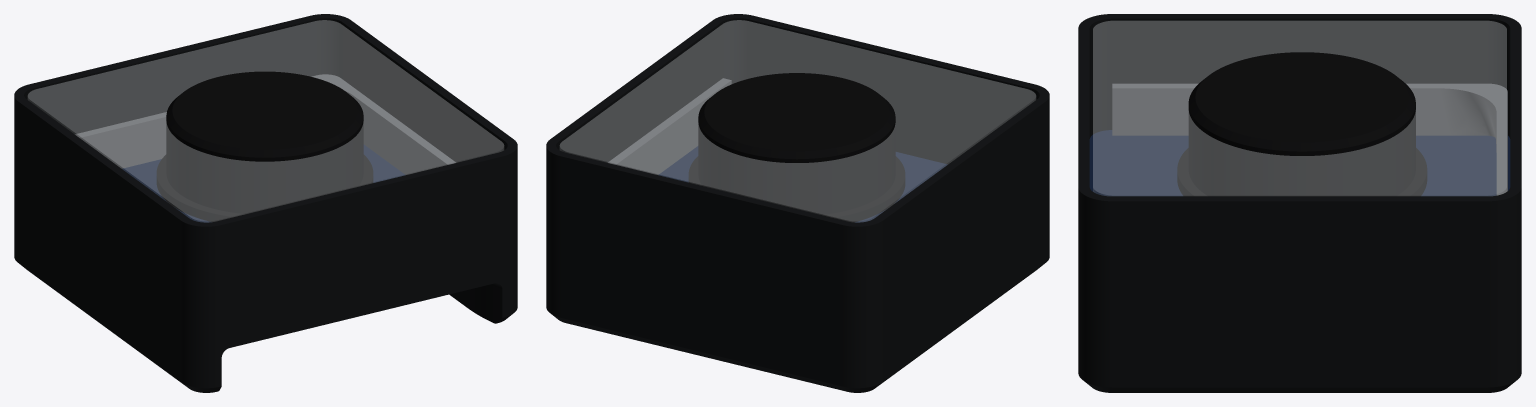
The model's file is button.glb.
3 renders of one model, left to right at view 1: azimuth 30°, elevation 25°; view 2: azimuth 150°, elevation 25°; view 3: azimuth 270°, elevation 25°, orthographic. The views are drawn at different scales.
Parts seen in each view (by area): view 1: black, glass, cap, grey, pcb; view 2: black, glass, cap, grey, pcb; view 3: black, glass, cap, pcb, grey.
Boxes of the visible parts, box(x1,y1,x2,y2) form: black: box(14, 14, 517, 392); glass: box(28, 20, 503, 222); cap: box(156, 71, 373, 221); grey: box(75, 74, 456, 174); pcb: box(122, 144, 405, 222); black: box(546, 14, 1049, 392); glass: box(560, 20, 1035, 222); cap: box(688, 73, 905, 222); grey: box(607, 78, 731, 174); pcb: box(658, 146, 947, 222); black: box(1078, 14, 1521, 392); glass: box(1093, 21, 1506, 195); cap: box(1177, 52, 1427, 196); pcb: box(1089, 130, 1510, 196); grey: box(1112, 83, 1507, 195).
Size of the model in its own units: 0.0195 by 0.01 by 0.0195.
